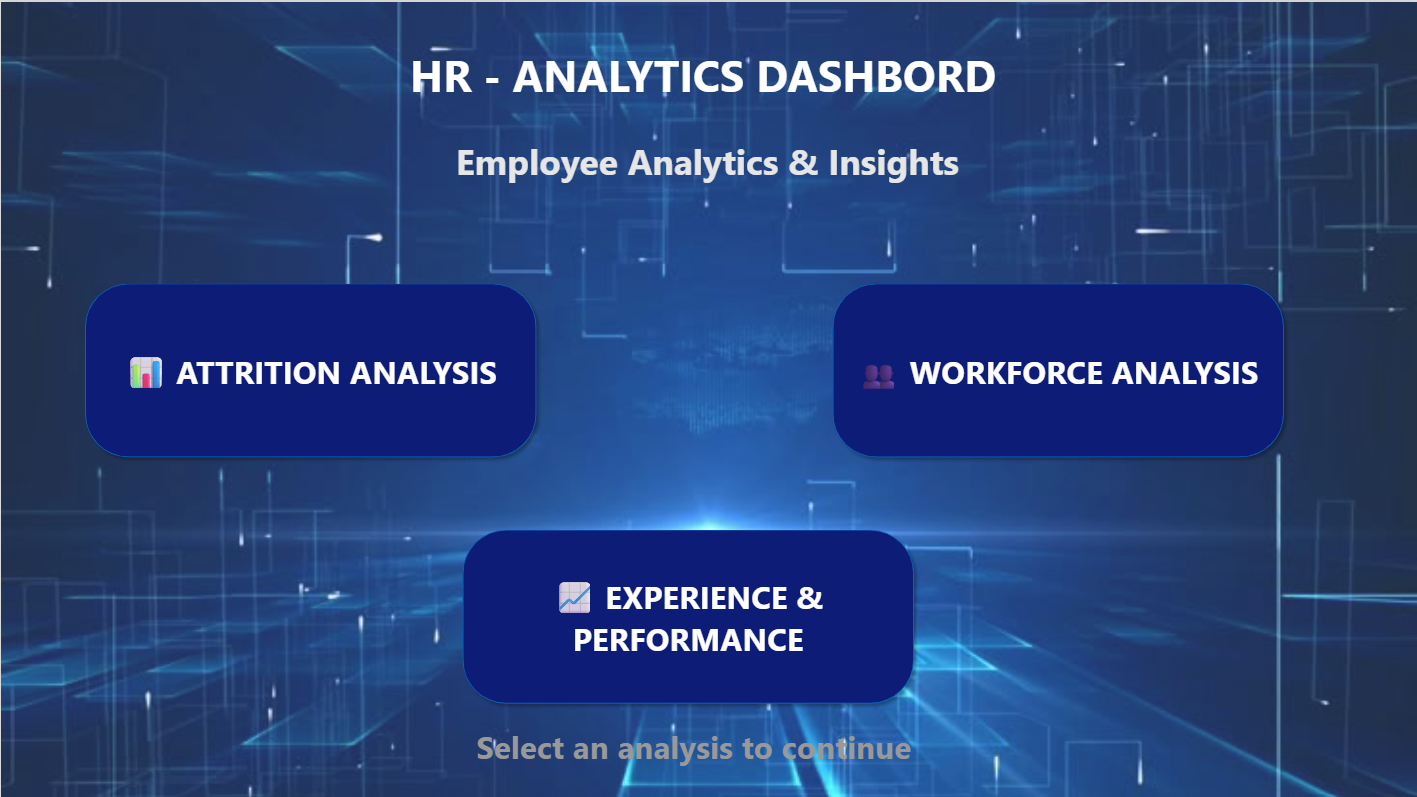

What the dashboard file says about the page in this screenshot:
{"tool":"powerbi","page":{"name":"HR_Dashbord_home","canvas":[1920,1080],"ordinal":0},"visuals":[{"type":"textbox","box":[0,59.7,1920.1,184.6],"z":0},{"type":"shape","box":[105,372.8,629.8,253.4],"z":1},{"type":"shape","box":[1118.4,372.8,629.8,253.4],"z":2},{"type":"shape","box":[617.1,707.6,629.8,253.4],"z":3},{"type":"textbox","box":[363.7,182.8,1187.1,105],"z":4},{"type":"textbox","box":[329.4,979,1221.5,72.4],"z":5}]}

Visuals, with their boxes in screenshot pixels (x1, y1, x2, y2), scaled from the page's 1920x1080 canvas onto the 1417x797 screenshot:
textbox: locate(0, 44, 1416, 180)
shape: locate(77, 275, 542, 462)
shape: locate(825, 275, 1290, 462)
shape: locate(455, 522, 920, 709)
textbox: locate(268, 135, 1145, 212)
textbox: locate(243, 722, 1145, 776)
